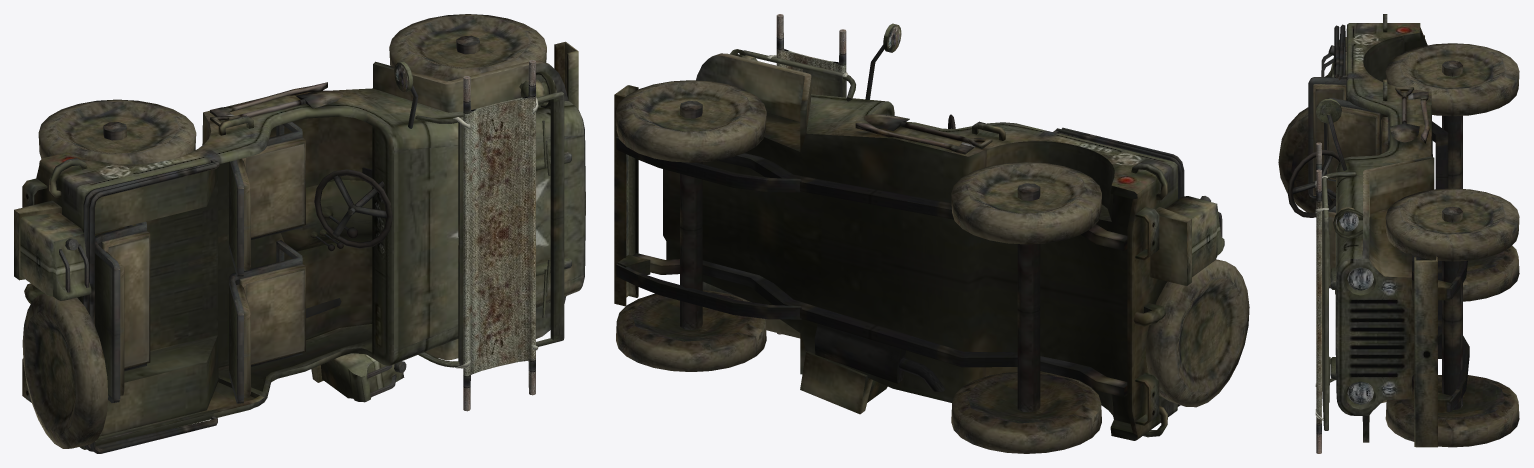
Rendered from vehicle_american_jeep_cot.glb.
3 views of the same model, side by side, from view 1: azimuth 30°, elevation 25°; view 2: azimuth 150°, elevation 25°; view 3: azimuth 270°, elevation 25° (orthographic). The views are drawn at different scales.
Bounding box in the file's own units: 145 × 85.62 × 61.88.
Materials: 2 (2 with a texture image).
